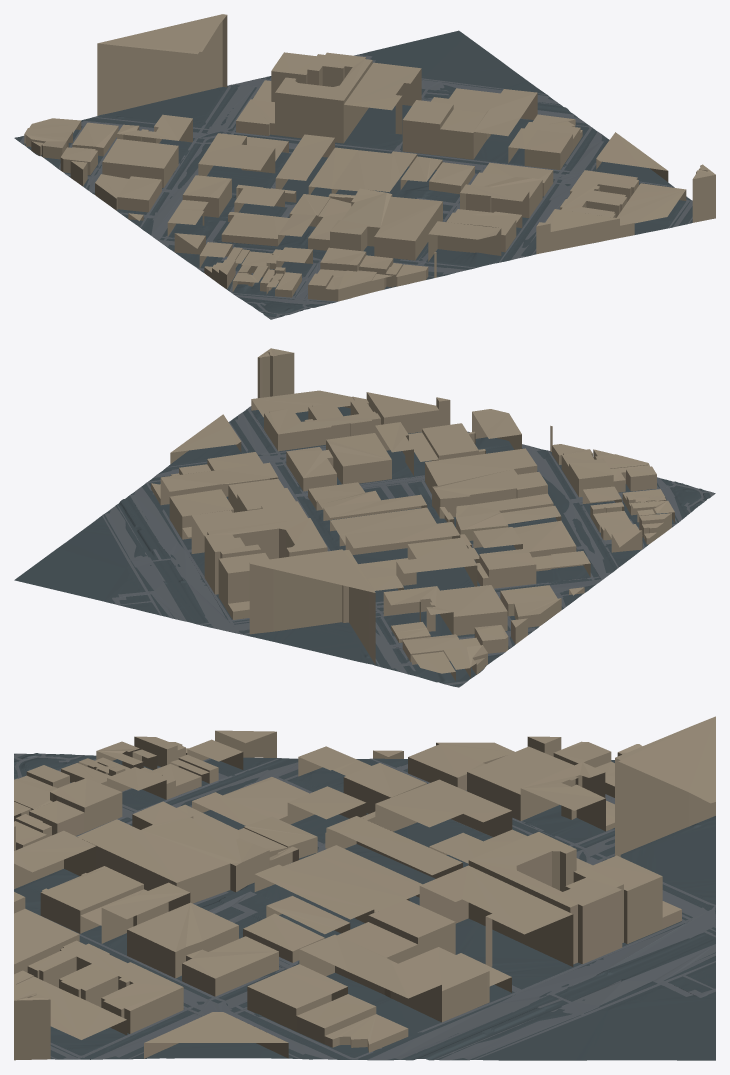
Rendered from epsg26910-1441-10889.lod0.glb.
3 renders of one model, top to bottom at view 1: azimuth 30°, elevation 25°; view 2: azimuth 150°, elevation 25°; view 3: azimuth 270°, elevation 25°, orthographic. The views are drawn at different scales.
Parts seen in each view (by area): view 1: epsg26910-1441-10889-lod0; view 2: epsg26910-1441-10889-lod0; view 3: epsg26910-1441-10889-lod0.
Part boxes in pixels (x1=…): epsg26910-1441-10889-lod0: x1=14, y1=14, x2=715, y2=319; epsg26910-1441-10889-lod0: x1=14, y1=348, x2=715, y2=687; epsg26910-1441-10889-lod0: x1=14, y1=716, x2=715, y2=1060.
Size of the model in its own units: 384 by 62.88 by 384.
